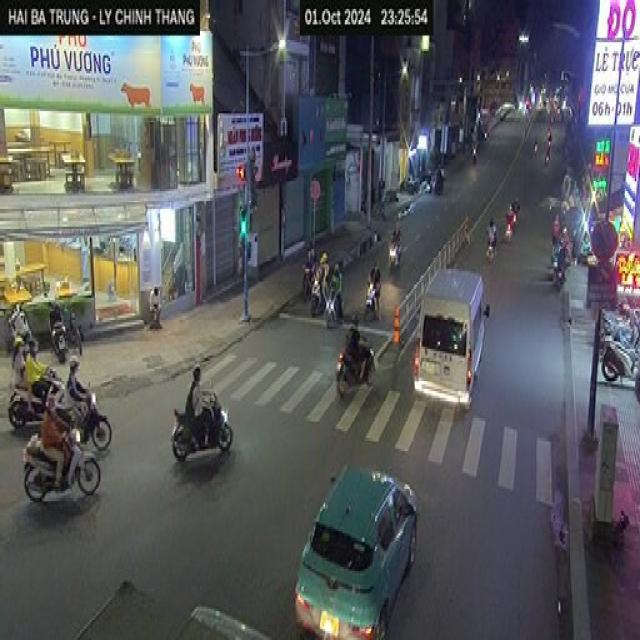bus: (411, 268, 492, 411)
car: (295, 463, 421, 640)
motorcycle: (24, 439, 101, 497), (170, 402, 236, 455), (335, 345, 380, 394), (61, 406, 110, 449), (6, 381, 68, 412), (49, 298, 71, 366), (6, 299, 32, 344), (364, 286, 380, 326), (326, 281, 338, 329), (312, 272, 324, 314), (483, 237, 499, 267), (389, 242, 403, 270), (302, 265, 311, 306)
person: (40, 395, 62, 493), (191, 363, 212, 450), (66, 356, 85, 427), (28, 336, 45, 400), (13, 328, 26, 400), (349, 312, 364, 368), (147, 282, 163, 331), (373, 255, 382, 310), (332, 266, 342, 306), (305, 248, 315, 283), (323, 252, 332, 290), (392, 218, 402, 244), (487, 216, 496, 243), (310, 244, 318, 270), (320, 258, 326, 286)
